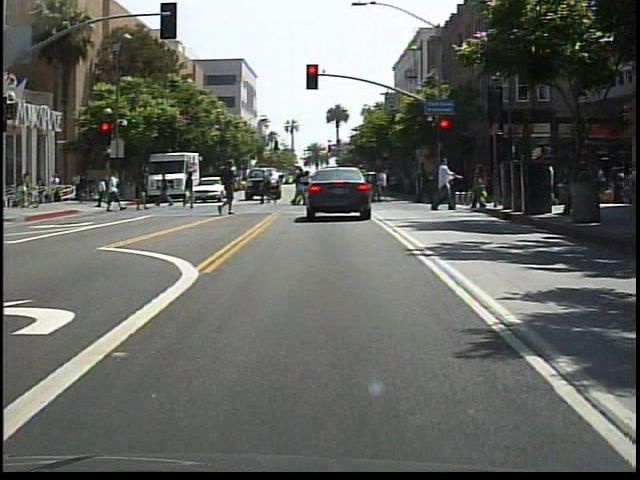person: (430, 156, 463, 214), (217, 159, 245, 223), (343, 166, 366, 217), (103, 170, 126, 219), (180, 169, 202, 214), (156, 170, 174, 211), (257, 169, 274, 207)
